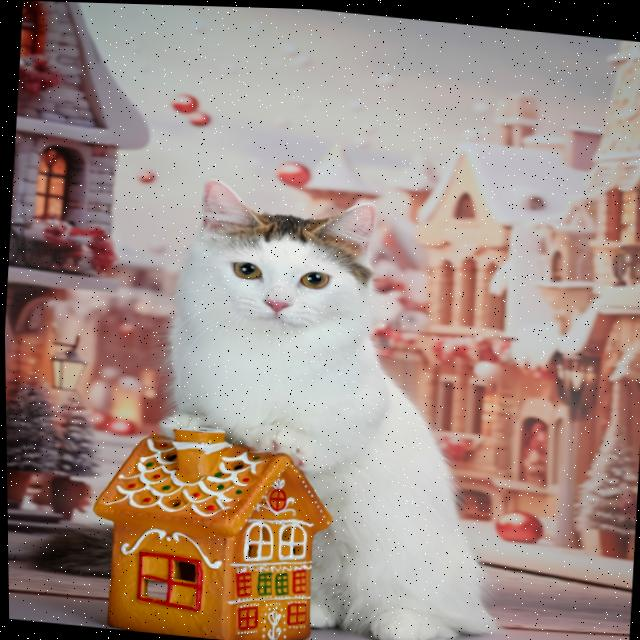Munchkin: (139, 167, 528, 640)
